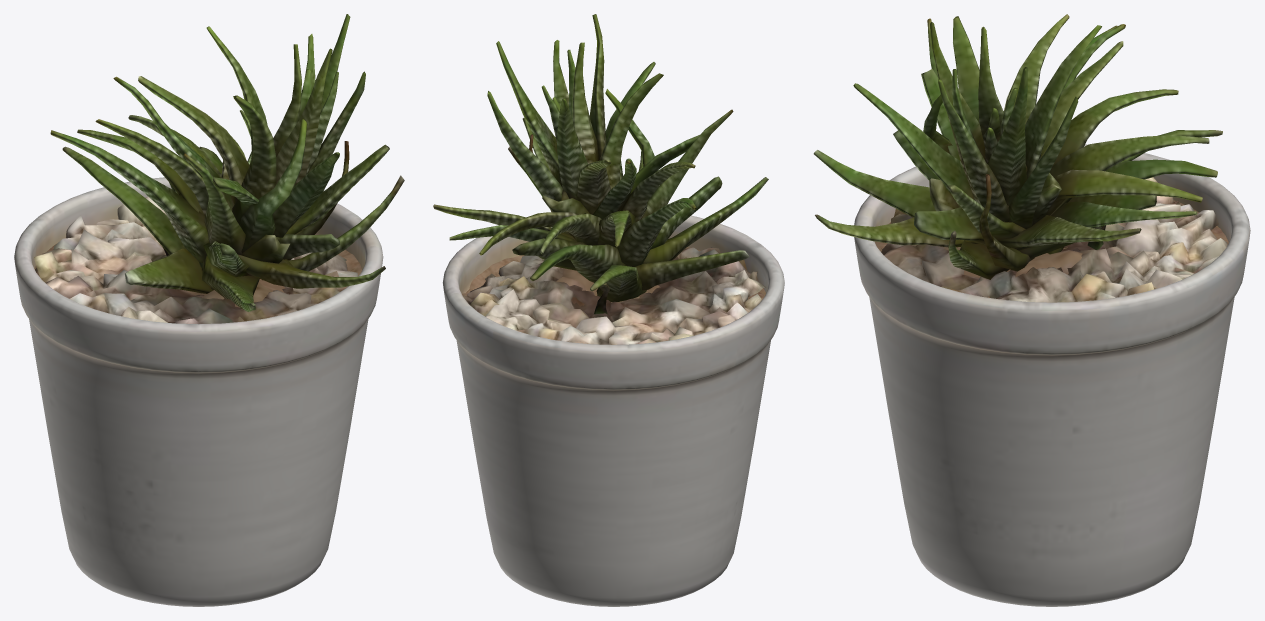
File: ph_potted_plant_04.glb
3 views of the same model, side by side, from view 1: azimuth 30°, elevation 25°; view 2: azimuth 150°, elevation 25°; view 3: azimuth 270°, elevation 25° (orthographic). The views are drawn at different scales.
Visible parts, largest first — view 1: potted_plant_04_ground; view 2: potted_plant_04_ground; view 3: potted_plant_04_ground.
Part boxes in pixels (x1,y1,x2,y2): potted_plant_04_ground: (14,14,404,606); potted_plant_04_ground: (433,14,784,606); potted_plant_04_ground: (813,14,1250,606).
Size of the model in its own units: 0.1679 by 0.2675 by 0.1848.
Materials: 1 (1 with a texture image).
